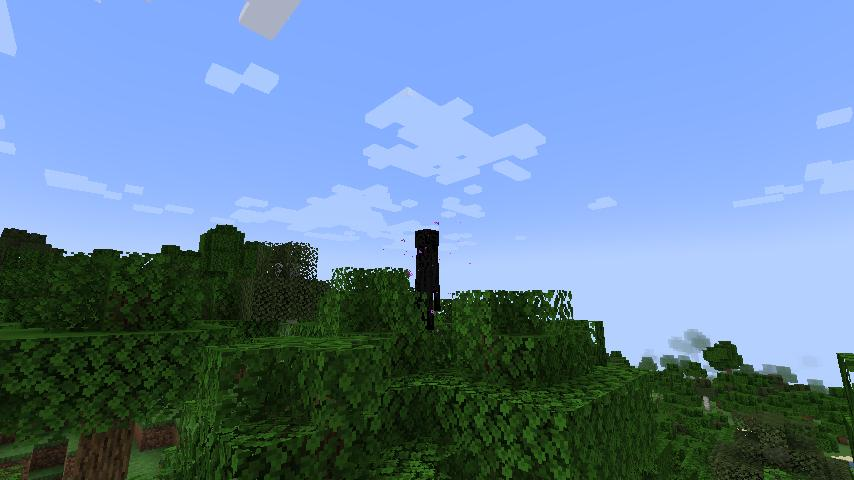enderman: (412, 227, 444, 329)
